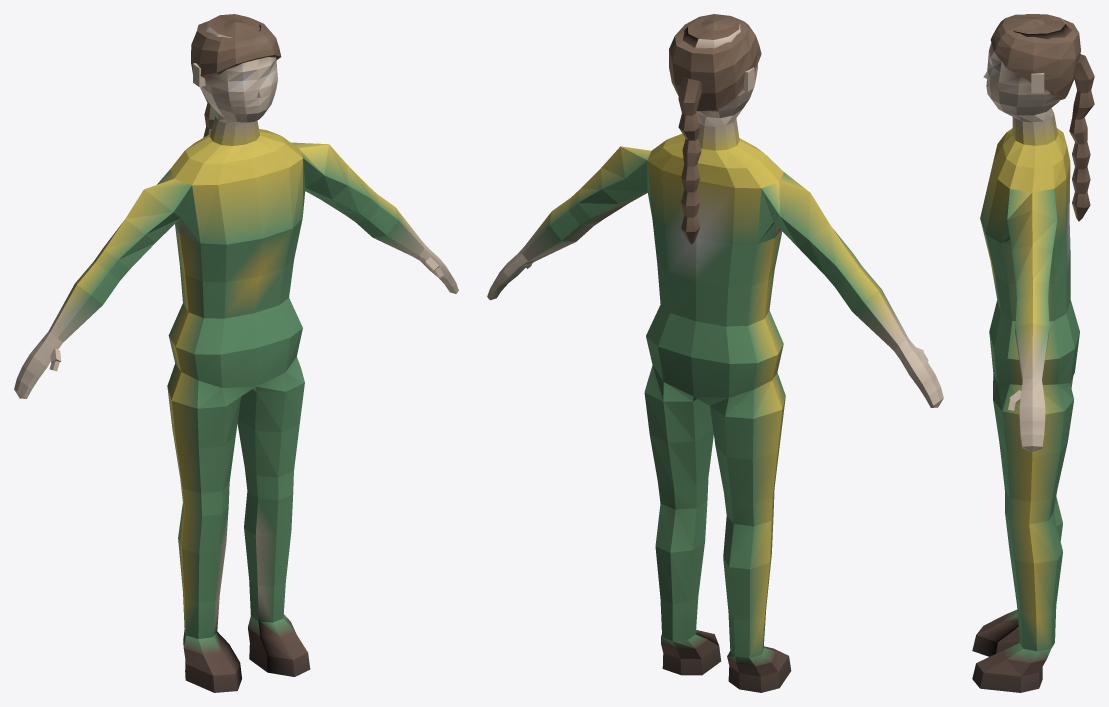
Rendered from char__pessoa__multidao_14.glb.
3 renders of one model, left to right at view 1: azimuth 30°, elevation 25°; view 2: azimuth 150°, elevation 25°; view 3: azimuth 270°, elevation 25°, orthographic. The views are drawn at different scales.
Parts seen in each view (by area): view 1: char__pessoa__multidao_14; view 2: char__pessoa__multidao_14; view 3: char__pessoa__multidao_14.
Boxes of the visible parts, <box> form: char__pessoa__multidao_14: <box>14,14,458,692</box>; char__pessoa__multidao_14: <box>487,14,943,692</box>; char__pessoa__multidao_14: <box>972,14,1094,692</box>.
Bounding box in the file's own units: 1.14 × 1.61 × 0.2744.
